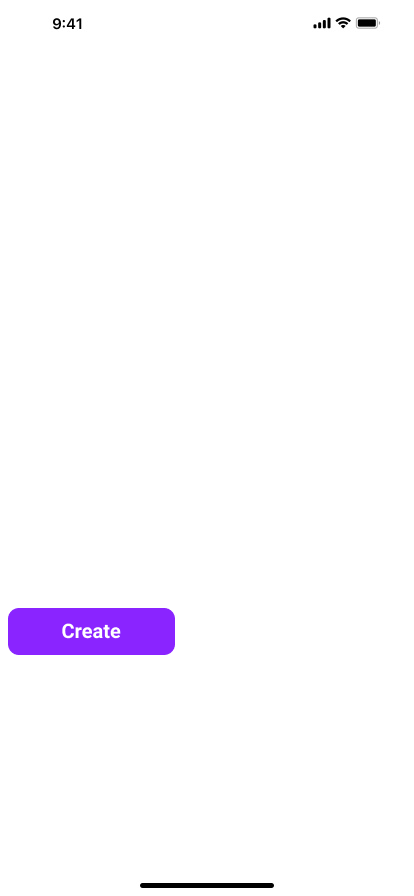Buttons: (8, 608, 175, 655)
Home Indicator: (0, 862, 414, 896)
Status Bar: (0, 0, 414, 44)
